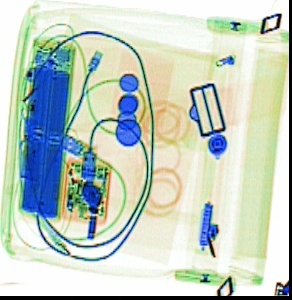powerbank: (17, 38, 75, 220)
